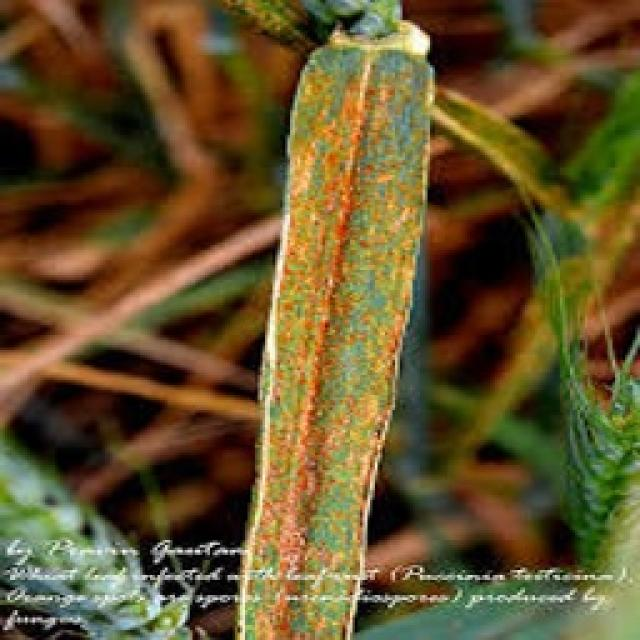Healthy Wheat: (0, 0, 638, 638)
Yellow Rust: (227, 18, 435, 638)
